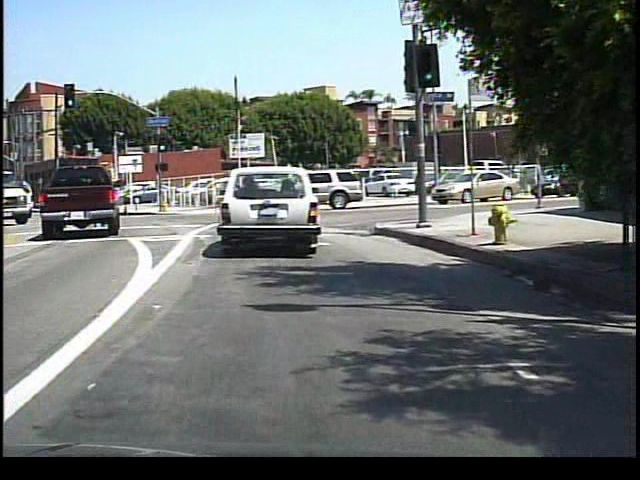person: (411, 163, 430, 204)
